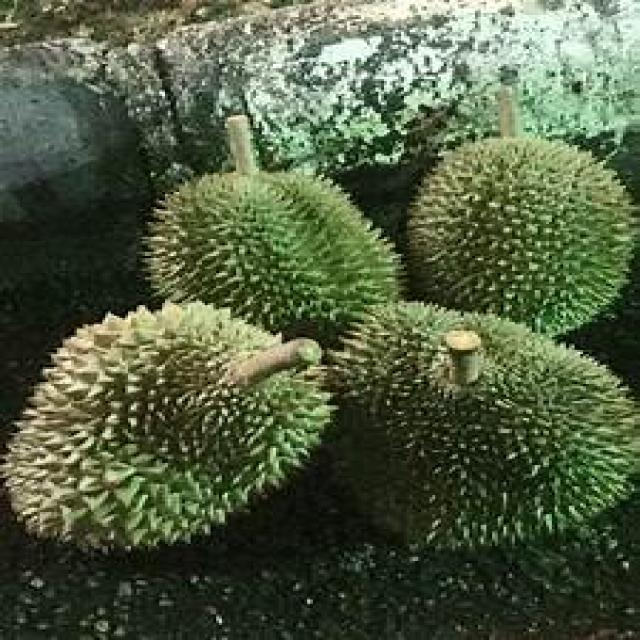immature: (5, 299, 340, 557), (326, 296, 640, 550), (142, 170, 406, 352), (408, 137, 640, 343)
